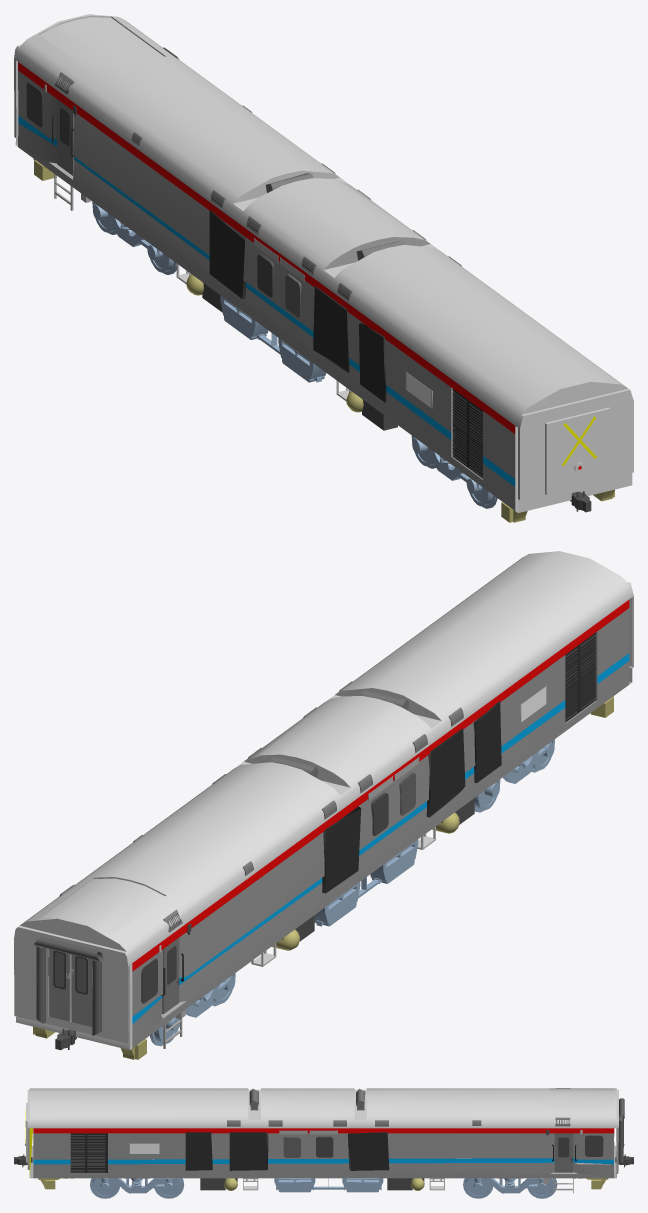
Rendered from lhb_generator.glb.
The picture shows the model from 3 angles, top to bottom: view 1: azimuth 30°, elevation 25°; view 2: azimuth 150°, elevation 25°; view 3: azimuth 270°, elevation 25°; orthographic projection. The views are drawn at different scales.
Parts seen in each view (by area): view 1: polySurface88_roof_0, polySurface88_generator_car_body_0, polySurface77_side_1_0, polySurface155_wheels_0, polySurface88_red_Line_0, polySurface88_blue_ribbon_0, polySurface88_lambert1_0, polySurface80_blinn9_0, polySurface155_box_0, polySurface150_motor_0, polySurface78_side_2_0, polySurface76_door_0 (+1 smaller); view 2: polySurface88_roof_0, polySurface88_generator_car_body_0, polySurface77_side_1_0, polySurface155_wheels_0, polySurface88_red_Line_0, polySurface156_rubbbber_0, polySurface88_blue_ribbon_0, polySurface156_generator_car_body_0, polySurface80_blinn9_0, polySurface155_box_0, polySurface150_motor_0, polySurface78_side_2_0 (+2 smaller); view 3: polySurface88_roof_0, polySurface88_generator_car_body_0, polySurface77_side_1_0, polySurface155_wheels_0, polySurface88_red_Line_0, polySurface88_blue_ribbon_0, polySurface80_blinn9_0, polySurface78_side_2_0, polySurface155_box_0, polySurface155_couplers_0, polySurface150_motor_0, polySurface88_lambert1_0 (+7 smaller).
Part boxes in pixels (x1=…): polySurface88_roof_0: x1=14, y1=14, x2=633, y2=512; polySurface88_generator_car_body_0: x1=18, y1=70, x2=515, y2=510; polySurface77_side_1_0: x1=52, y1=114, x2=482, y2=478; polySurface155_wheels_0: x1=92, y1=202, x2=515, y2=508; polySurface88_red_Line_0: x1=18, y1=62, x2=581, y2=469; polySurface88_blue_ribbon_0: x1=18, y1=116, x2=515, y2=486; polySurface88_lambert1_0: x1=14, y1=59, x2=519, y2=512; polySurface80_blinn9_0: x1=26, y1=82, x2=274, y2=297; polySurface155_box_0: x1=33, y1=158, x2=614, y2=522; polySurface150_motor_0: x1=55, y1=47, x2=461, y2=301; polySurface78_side_2_0: x1=285, y1=274, x2=482, y2=476; polySurface76_door_0: x1=57, y1=99, x2=74, y2=175; polySurface88_roof_0: x1=14, y1=551, x2=633, y2=1049; polySurface88_generator_car_body_0: x1=132, y1=608, x2=629, y2=1048; polySurface77_side_1_0: x1=161, y1=632, x2=595, y2=995; polySurface155_wheels_0: x1=132, y1=739, x2=554, y2=1046; polySurface88_red_Line_0: x1=132, y1=600, x2=629, y2=971; polySurface156_rubbbber_0: x1=33, y1=937, x2=103, y2=1035; polySurface88_blue_ribbon_0: x1=132, y1=653, x2=629, y2=1023; polySurface156_generator_car_body_0: x1=48, y1=949, x2=92, y2=1026; polySurface80_blinn9_0: x1=141, y1=792, x2=388, y2=1003; polySurface155_box_0: x1=33, y1=696, x2=613, y2=1059; polySurface150_motor_0: x1=59, y1=681, x2=463, y2=932; polySurface78_side_2_0: x1=399, y1=635, x2=594, y2=815; polySurface88_roof_0: x1=25, y1=1088, x2=618, y2=1177; polySurface88_generator_car_body_0: x1=33, y1=1133, x2=614, y2=1178; polySurface77_side_1_0: x1=70, y1=1132, x2=576, y2=1173; polySurface155_wheels_0: x1=90, y1=1178, x2=557, y2=1198; polySurface88_red_Line_0: x1=33, y1=1128, x2=614, y2=1133; polySurface88_blue_ribbon_0: x1=33, y1=1158, x2=613, y2=1164; polySurface80_blinn9_0: x1=316, y1=1135, x2=603, y2=1157; polySurface78_side_2_0: x1=70, y1=1135, x2=300, y2=1172; polySurface155_box_0: x1=38, y1=1178, x2=608, y2=1190; polySurface155_couplers_0: x1=200, y1=1178, x2=424, y2=1190; polySurface150_motor_0: x1=227, y1=1088, x2=570, y2=1126; polySurface88_lambert1_0: x1=27, y1=1128, x2=618, y2=1178.
Bounding box in the file's own units: 0.0491 × 0.0654 × 0.3865.
